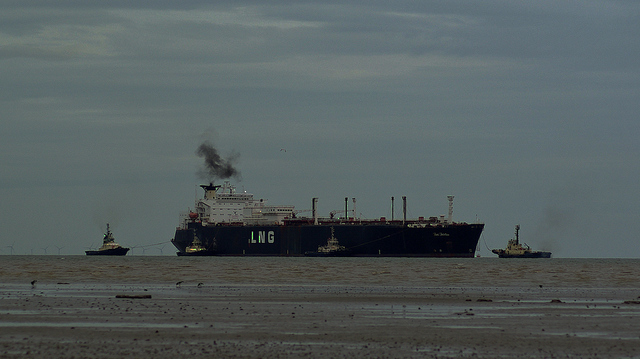LNG_ship: (173, 182, 483, 259)
tug_boat: (492, 224, 560, 255), (86, 230, 134, 253), (312, 231, 349, 255), (176, 233, 211, 255)
